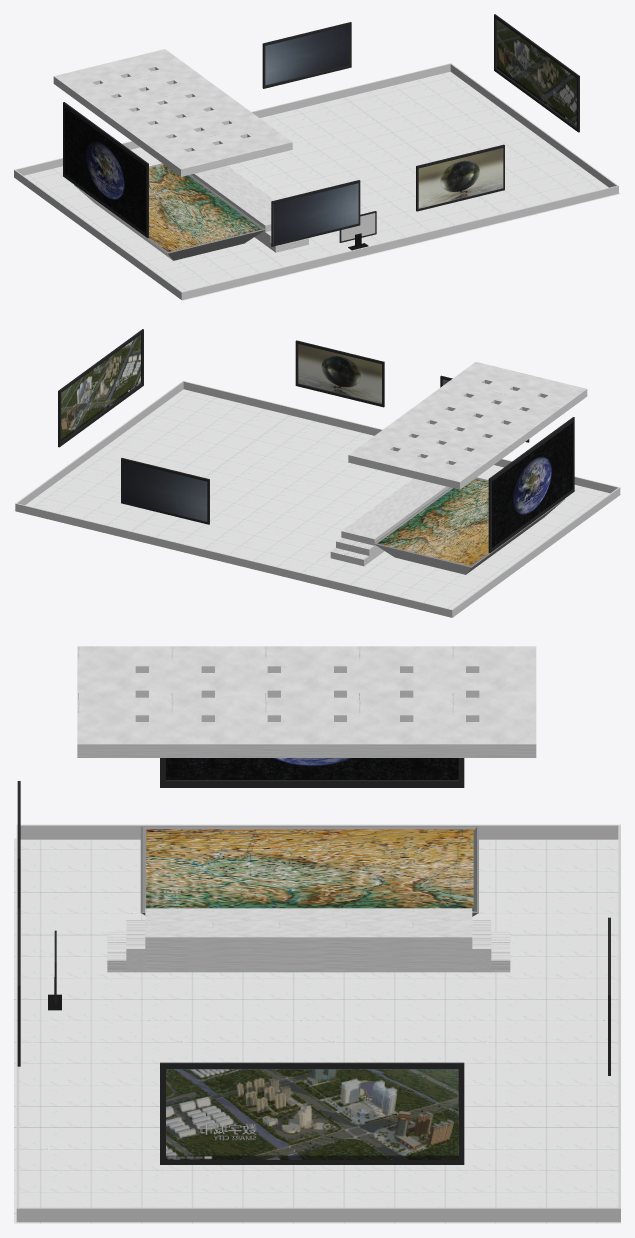
File: room2.FBX
3 renders of one model, top to bottom at view 1: azimuth 30°, elevation 25°; view 2: azimuth 150°, elevation 25°; view 3: azimuth 270°, elevation 25°, orthographic. The views are drawn at different scales.
Visible parts, largest first — view 1: Plane001, Box008, Rectangle001, Plane007, Plane006, Plane002, Plane003, Plane004, Plane005, Box007, Box006, Rectangle009 (+5 smaller); view 2: Plane001, Box008, Rectangle001, Plane007, Plane006, Plane002, Box007, Plane005, Plane003, Box006, Rectangle009, Rectangle005 (+2 smaller); view 3: Plane001, Box008, Plane002, Plane007, Box007, Rectangle001, Plane006, Rectangle005, Rectangle009, Box006.
Boxes of the visible parts, bbox=[...] form: Plane001: bbox=[24, 71, 620, 300]; Box008: bbox=[53, 49, 292, 176]; Rectangle001: bbox=[14, 63, 618, 300]; Plane007: bbox=[149, 164, 261, 251]; Plane006: bbox=[64, 107, 145, 232]; Plane002: bbox=[497, 20, 576, 126]; Plane003: bbox=[418, 148, 503, 208]; Plane004: bbox=[273, 183, 358, 243]; Plane005: bbox=[265, 25, 349, 85]; Box007: bbox=[191, 165, 308, 252]; Box006: bbox=[74, 163, 265, 260]; Rectangle009: bbox=[63, 102, 148, 238]; Plane001: bbox=[14, 389, 620, 609]; Box008: bbox=[348, 362, 587, 489]; Rectangle001: bbox=[15, 381, 620, 617]; Plane007: bbox=[377, 478, 488, 565]; Plane006: bbox=[492, 422, 573, 547]; Plane002: bbox=[61, 335, 140, 441]; Box007: bbox=[330, 478, 449, 566]; Plane005: bbox=[122, 461, 207, 521]; Plane003: bbox=[298, 344, 381, 403]; Box006: bbox=[373, 477, 564, 574]; Rectangle009: bbox=[488, 417, 574, 552]; Rectangle005: bbox=[58, 329, 143, 447]; Plane001: bbox=[14, 838, 620, 1223]; Box008: bbox=[77, 646, 536, 757]; Plane002: bbox=[166, 1069, 458, 1159]; Plane007: bbox=[146, 829, 473, 910]; Box007: bbox=[107, 908, 510, 972]; Rectangle001: bbox=[16, 824, 620, 1222]; Plane006: bbox=[166, 758, 458, 779]; Rectangle005: bbox=[160, 1062, 464, 1164]; Rectangle009: bbox=[160, 758, 464, 787]; Box006: bbox=[140, 826, 478, 916].
Bounding box in the file's own units: 1797 × 449 × 1197.
10 materials, 7 textured.
